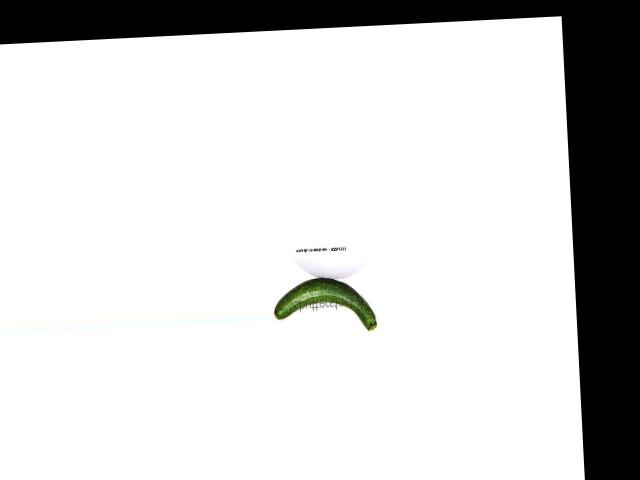cucumber: (273, 275, 377, 335)
